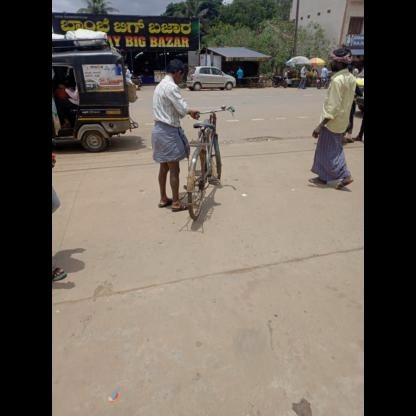Bicycle: (165, 99, 243, 223)
